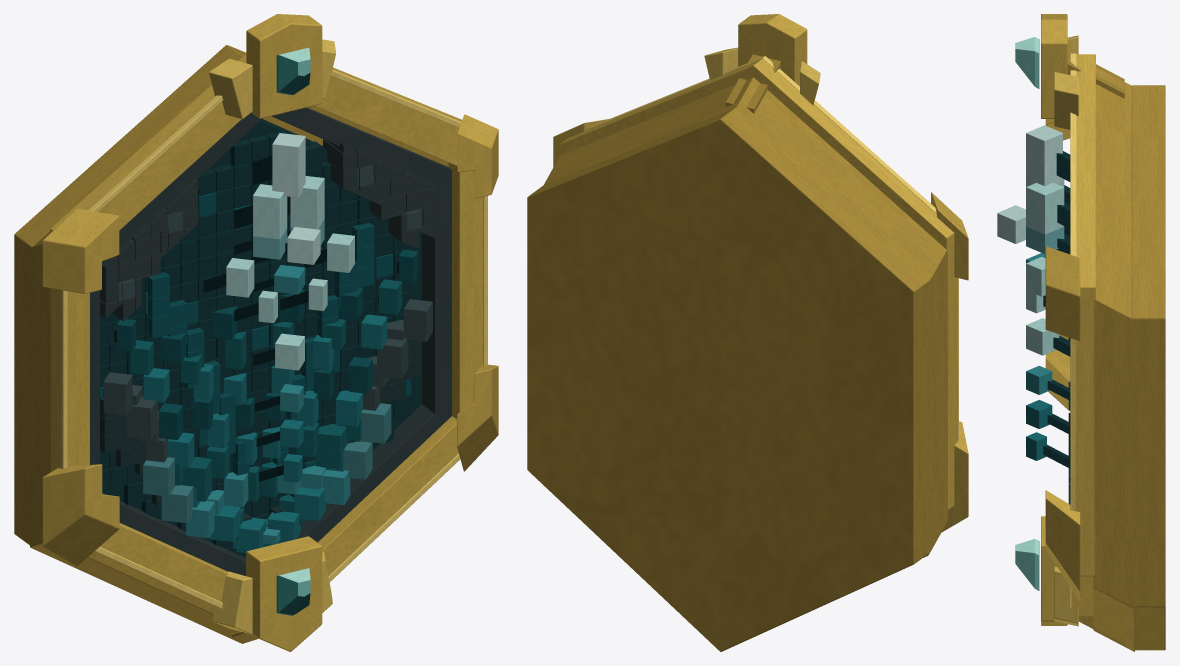
Rendered from SM_Blender_DeepDelverMark.fbx.
The picture shows the model from 3 angles, left to right: view 1: azimuth 30°, elevation 25°; view 2: azimuth 150°, elevation 25°; view 3: azimuth 270°, elevation 25°; orthographic projection. The views are drawn at different scales.
Parts seen in each view (by area): view 1: SM_Blender_DeepDelverMark; view 2: SM_Blender_DeepDelverMark; view 3: SM_Blender_DeepDelverMark.
Boxes of the visible parts, box(x1,y1,x2,y2) form: SM_Blender_DeepDelverMark: box(14, 14, 498, 651); SM_Blender_DeepDelverMark: box(527, 14, 968, 651); SM_Blender_DeepDelverMark: box(997, 14, 1165, 651).
Size of the model in its own units: 95.08 by 31.58 by 131.
